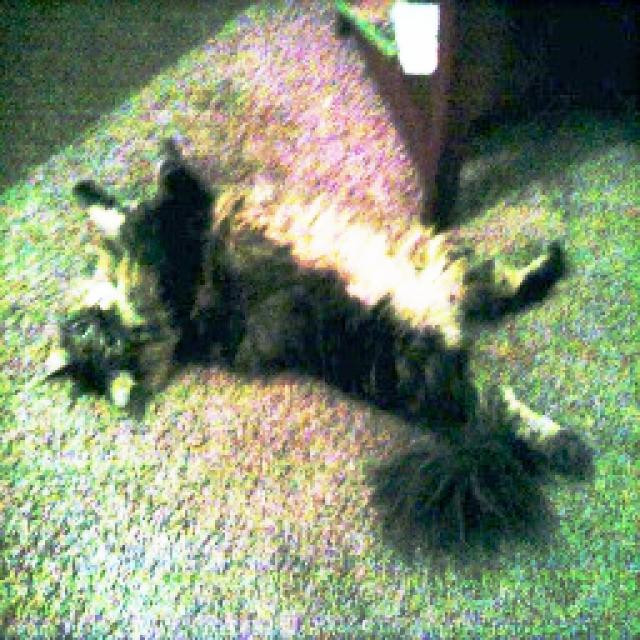cat: (29, 138, 596, 556)
